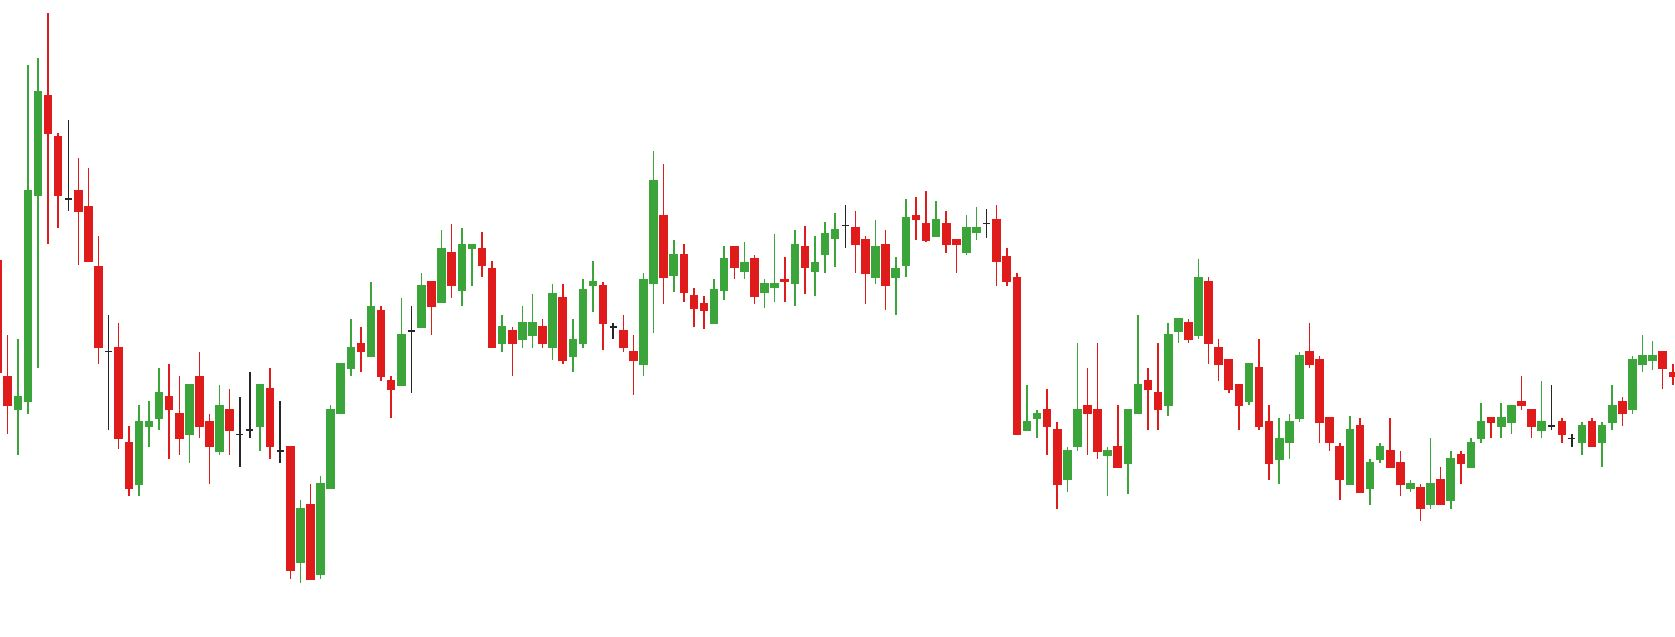sell: (437, 147, 670, 315), (849, 191, 933, 277), (1255, 318, 1316, 418)
